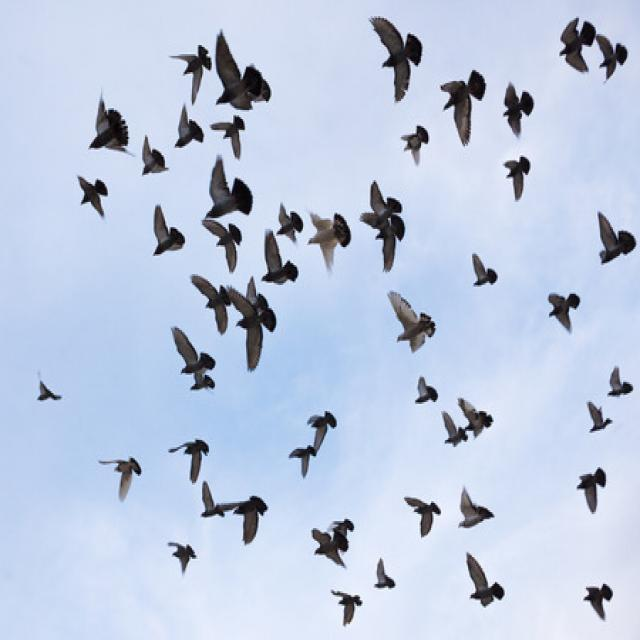bird: (359, 0, 434, 106), (213, 12, 283, 116), (431, 55, 495, 162), (79, 75, 139, 178), (228, 285, 284, 393), (378, 281, 448, 366), (360, 176, 412, 284), (198, 148, 268, 224), (252, 216, 306, 312), (583, 189, 640, 274), (497, 53, 544, 156), (161, 316, 220, 398), (306, 200, 362, 281), (305, 504, 368, 574), (554, 1, 604, 86), (130, 110, 173, 208), (189, 465, 239, 548), (400, 472, 448, 557), (457, 544, 510, 618), (94, 441, 146, 516), (164, 29, 214, 104), (316, 574, 374, 636), (144, 192, 188, 273), (567, 450, 608, 533), (200, 206, 250, 272), (158, 428, 218, 482), (462, 238, 507, 308), (456, 377, 498, 452), (71, 155, 111, 227), (496, 142, 539, 208), (149, 530, 202, 582), (232, 486, 279, 544), (194, 266, 230, 338), (542, 278, 582, 342), (601, 348, 640, 411), (394, 115, 434, 175), (456, 476, 500, 530), (296, 396, 343, 446), (594, 22, 630, 86), (26, 370, 76, 416), (577, 570, 621, 622), (407, 366, 445, 424), (276, 178, 308, 246), (170, 96, 203, 158), (210, 110, 248, 162), (432, 401, 468, 455), (366, 552, 406, 600), (286, 440, 318, 476), (584, 394, 616, 430)
